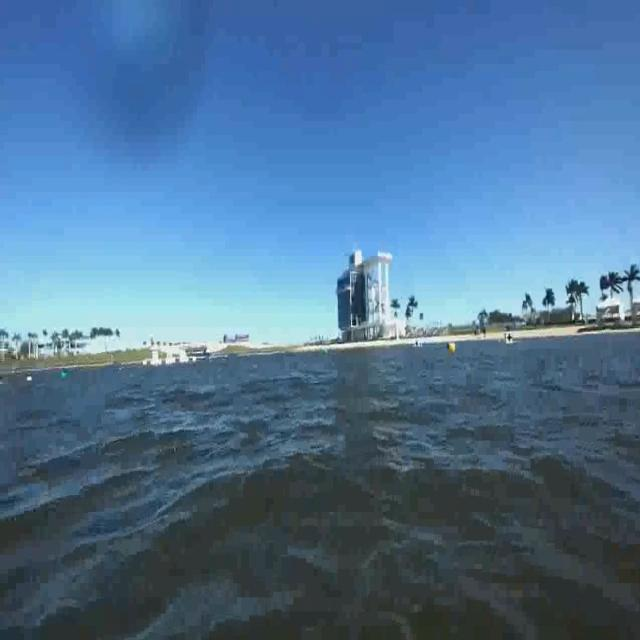yellow-buoy: (449, 342, 458, 356)
